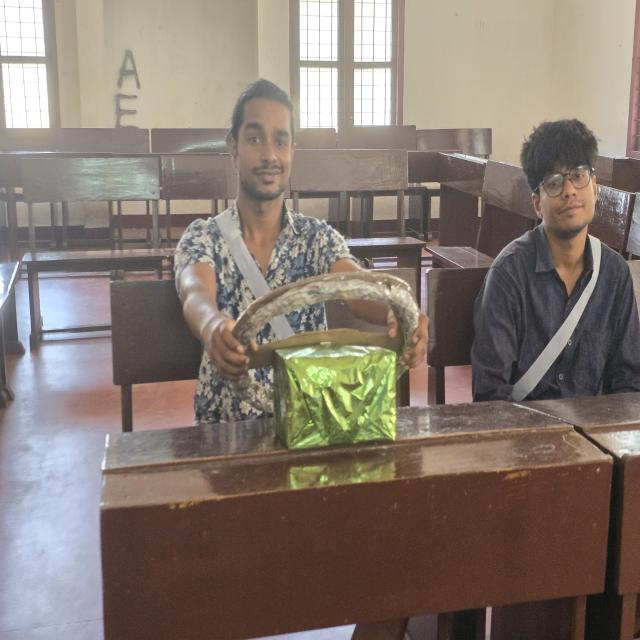seatbelt: (201, 209, 336, 401), (483, 232, 606, 406)
